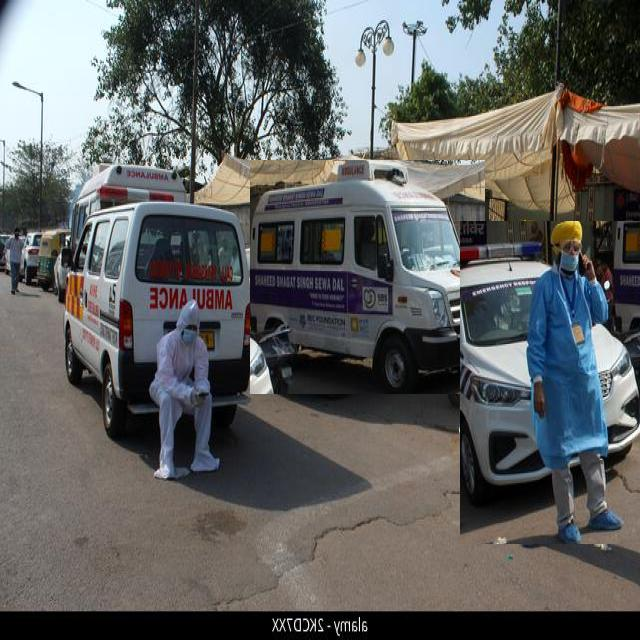car: (460, 222, 640, 544)
emergency: (250, 161, 485, 394), (64, 202, 250, 437)
